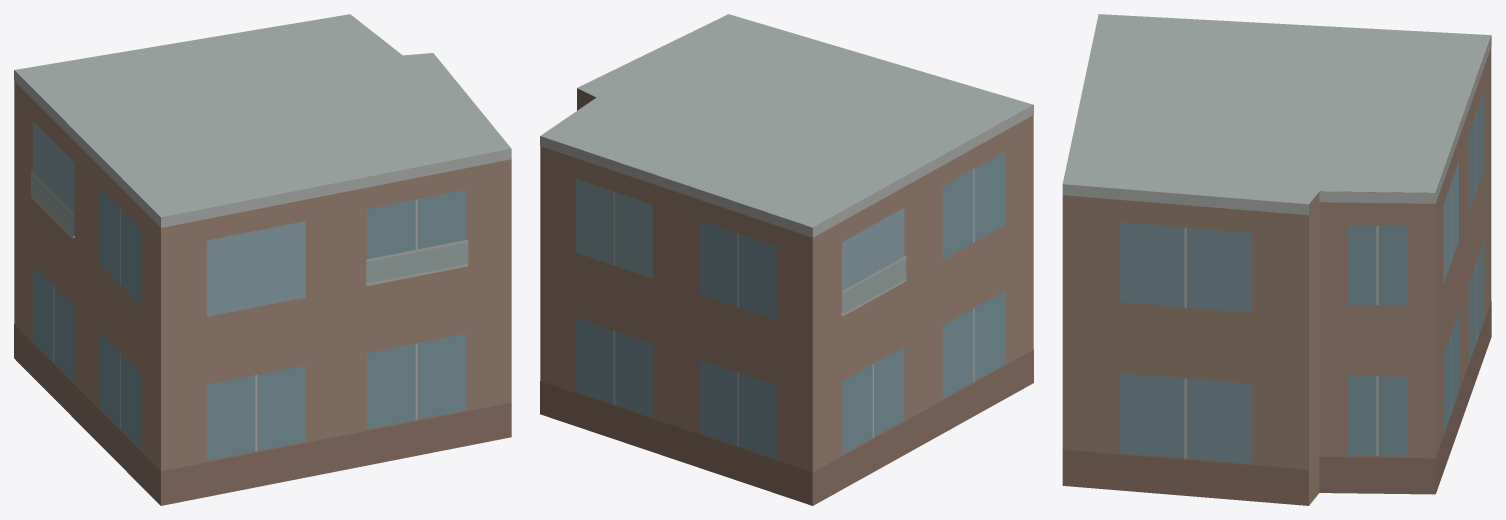
File: survey-upis-32609801.glb
3 renders of one model, left to right at view 1: azimuth 30°, elevation 25°; view 2: azimuth 150°, elevation 25°; view 3: azimuth 270°, elevation 25°, orthographic. The views are drawn at different scales.
Parts seen in each view (by area): view 1: survey-upis-32609801.tmp; view 2: survey-upis-32609801.tmp; view 3: survey-upis-32609801.tmp.
Boxes of the visible parts, x1,y1,x2,y2 form: survey-upis-32609801.tmp: (14,14,511,505); survey-upis-32609801.tmp: (540,14,1033,505); survey-upis-32609801.tmp: (1062,14,1491,505).
Size of the model in its own units: 9.08 by 6.7 by 8.65.
